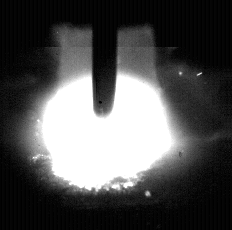arame: (93, 0, 117, 116)
poca: (41, 0, 171, 230)
